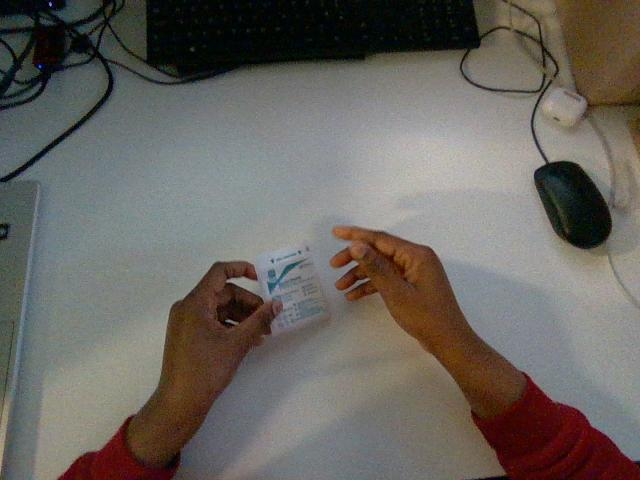gauze: (255, 244, 329, 334)
